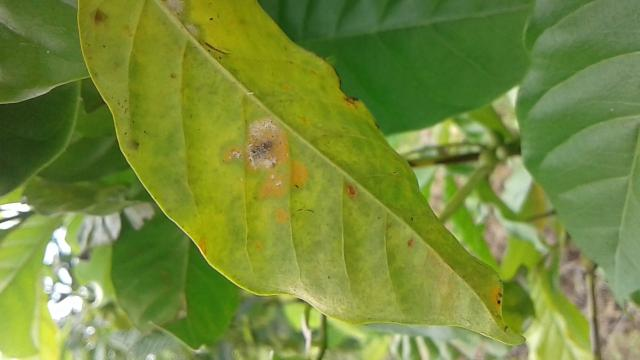rust_level_2: (70, 0, 522, 340)
